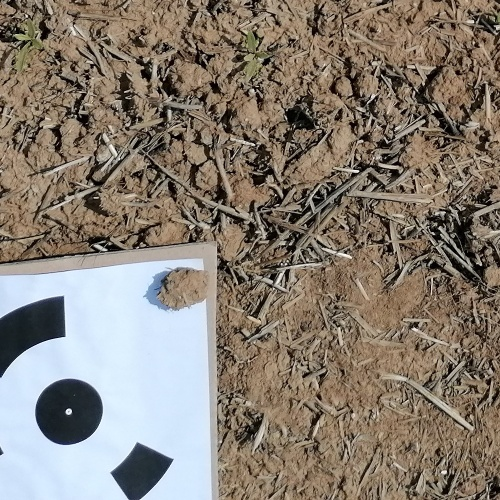beet: (13, 17, 42, 72), (241, 30, 268, 85)
